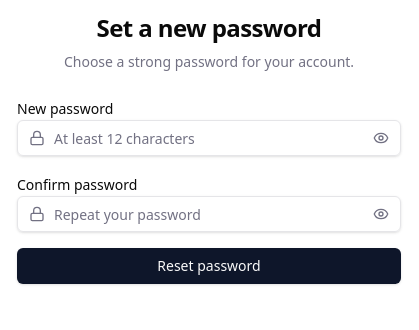
Test: ResetPasswordForm › shows error for password shorter than 12 characters
In the password field labelled "New password": (209, 138) [17,120,401,156], type "short"
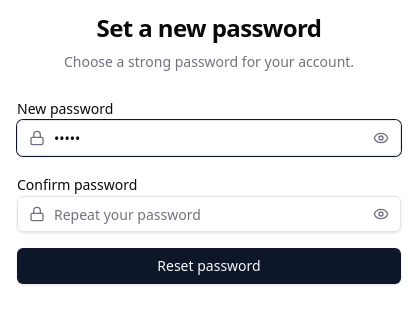
In the password field labelled "Confirm password": (209, 214) [17,196,401,232], type "short"
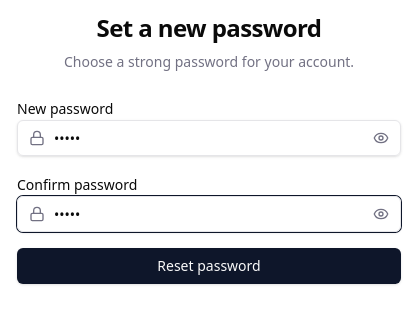
Click the button "Reset password": (209, 266) [17,248,401,284]
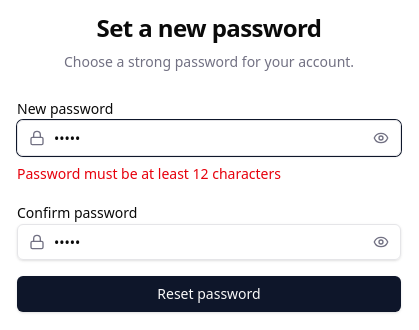
Now the text "Password must be at least 12 characters" is shown, box [17,164,281,183]
